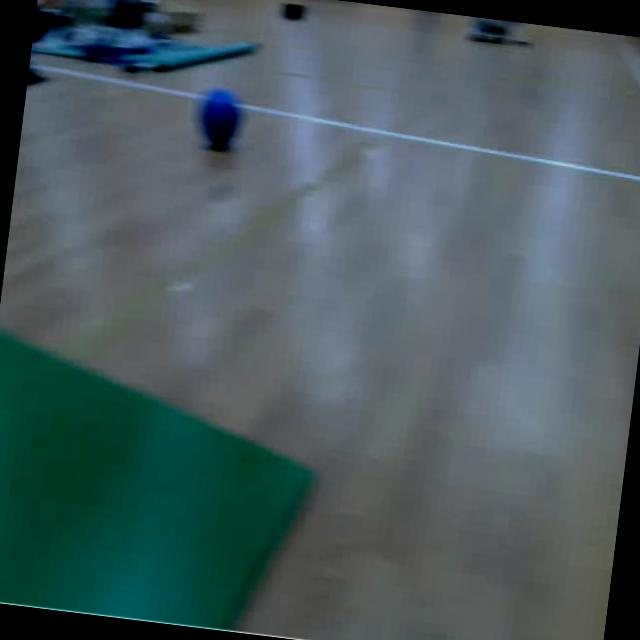blue_ball: (200, 84, 246, 148)
